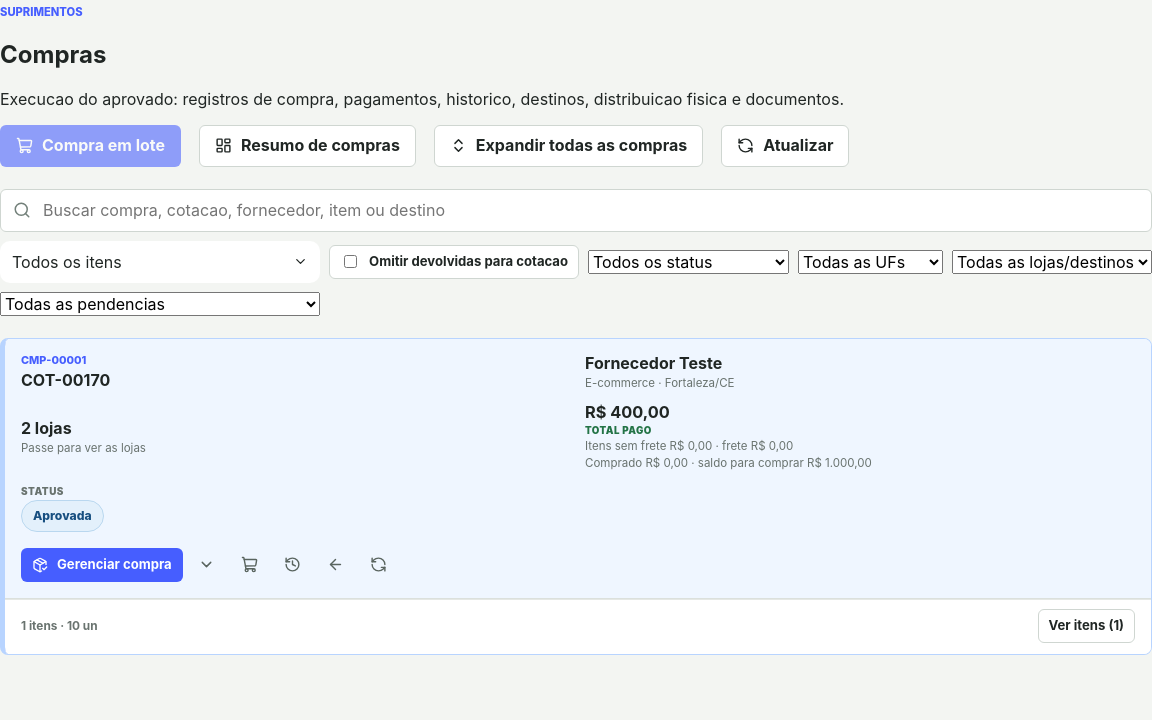
SupplyPurchasesPage V2 › exige que o frete seja informado explicitamente
Expected: the text "CMP-00001" is shown, [21,353,86,367]
Click the button named "Detalhar CMP-00001": {"x": 207, "y": 564} [188,546,226,584]
(page scrolled)
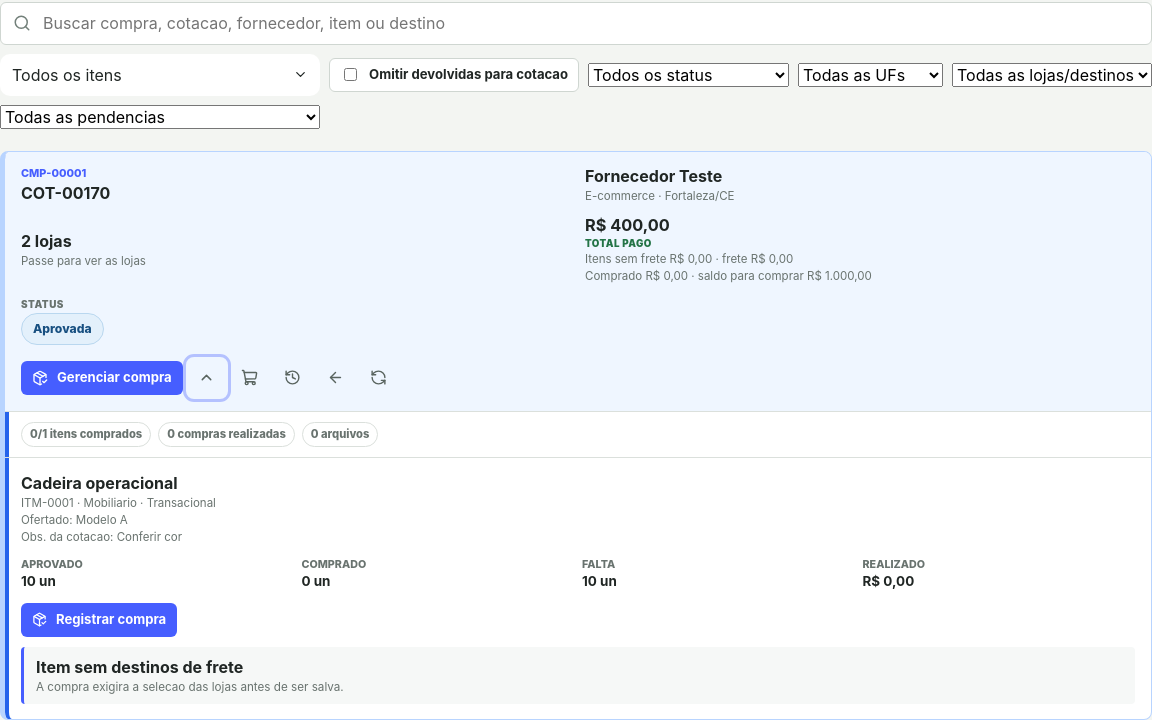
Click the button "Registrar compra": {"x": 99, "y": 620} [21,602,177,636]
(page scrolled)
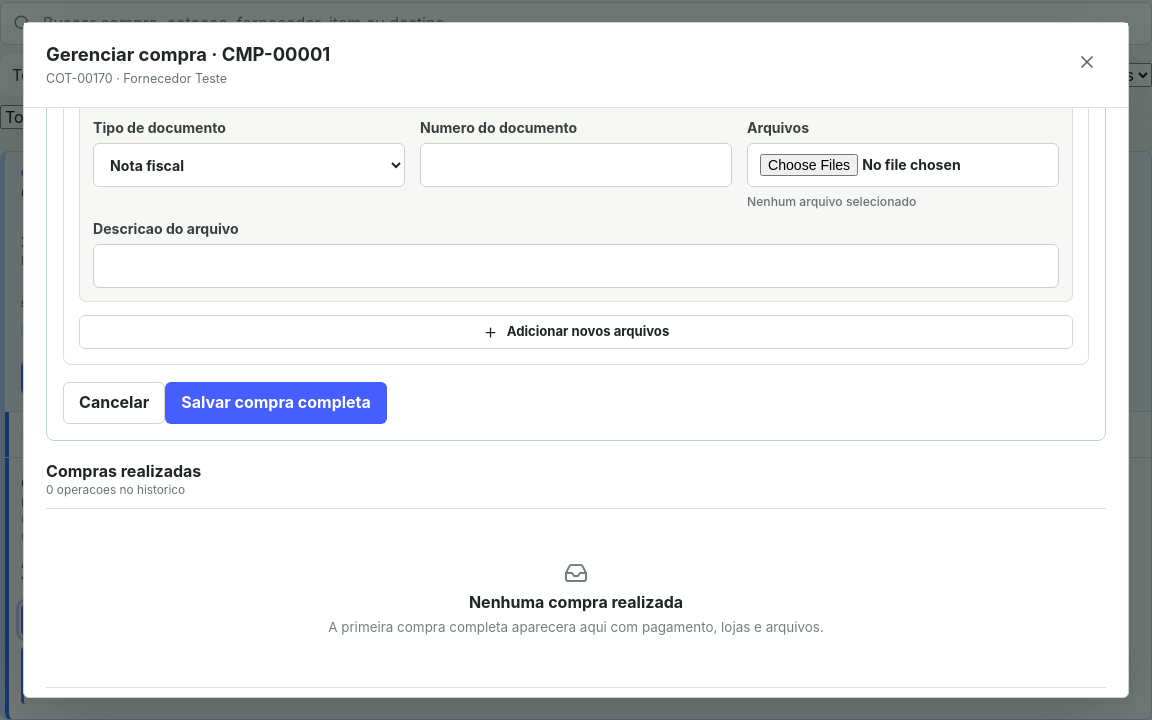
Click the button "Salvar compra completa": {"x": 276, "y": 403} [165,382,387,424]
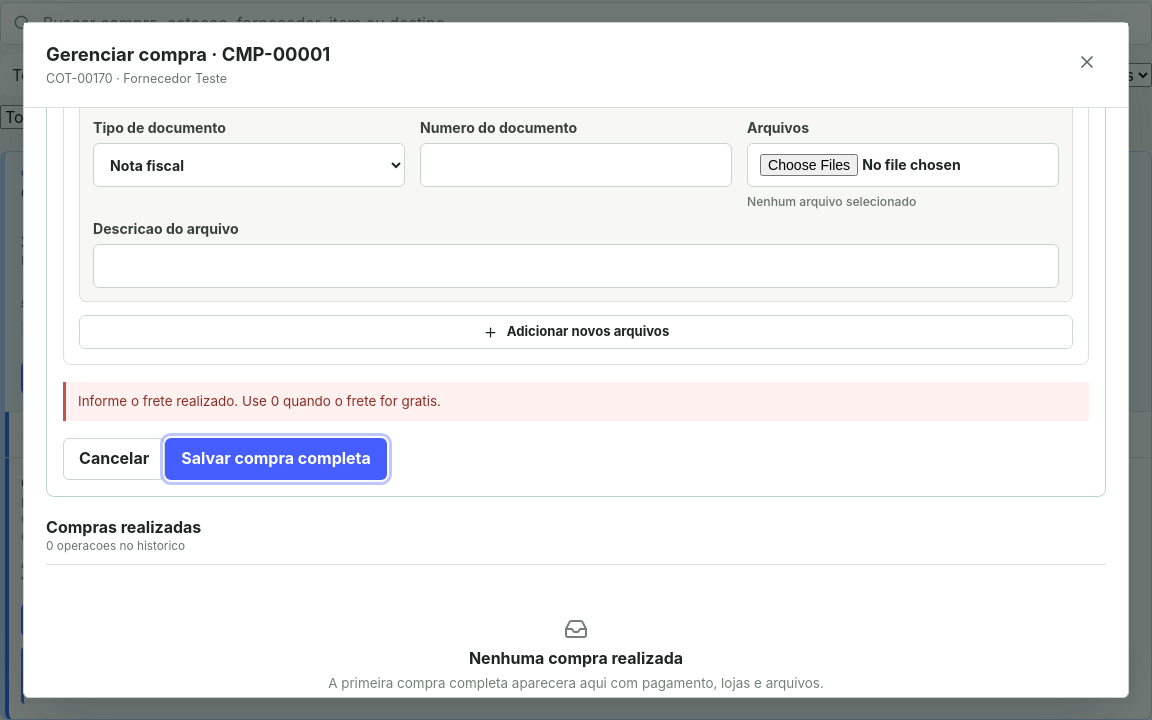
Expected: the text "Informe o frete realizado. Use 0 quando o frete for gratis." is shown, [63,382,1089,421]
